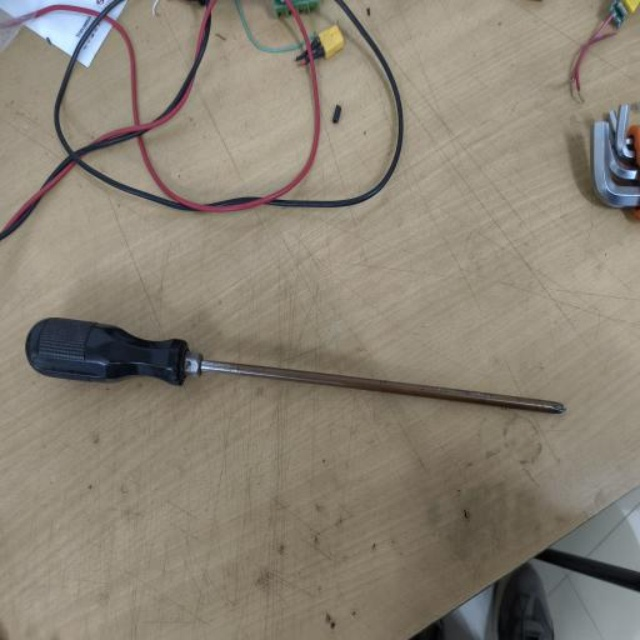screwdriver: (24, 314, 567, 421)
